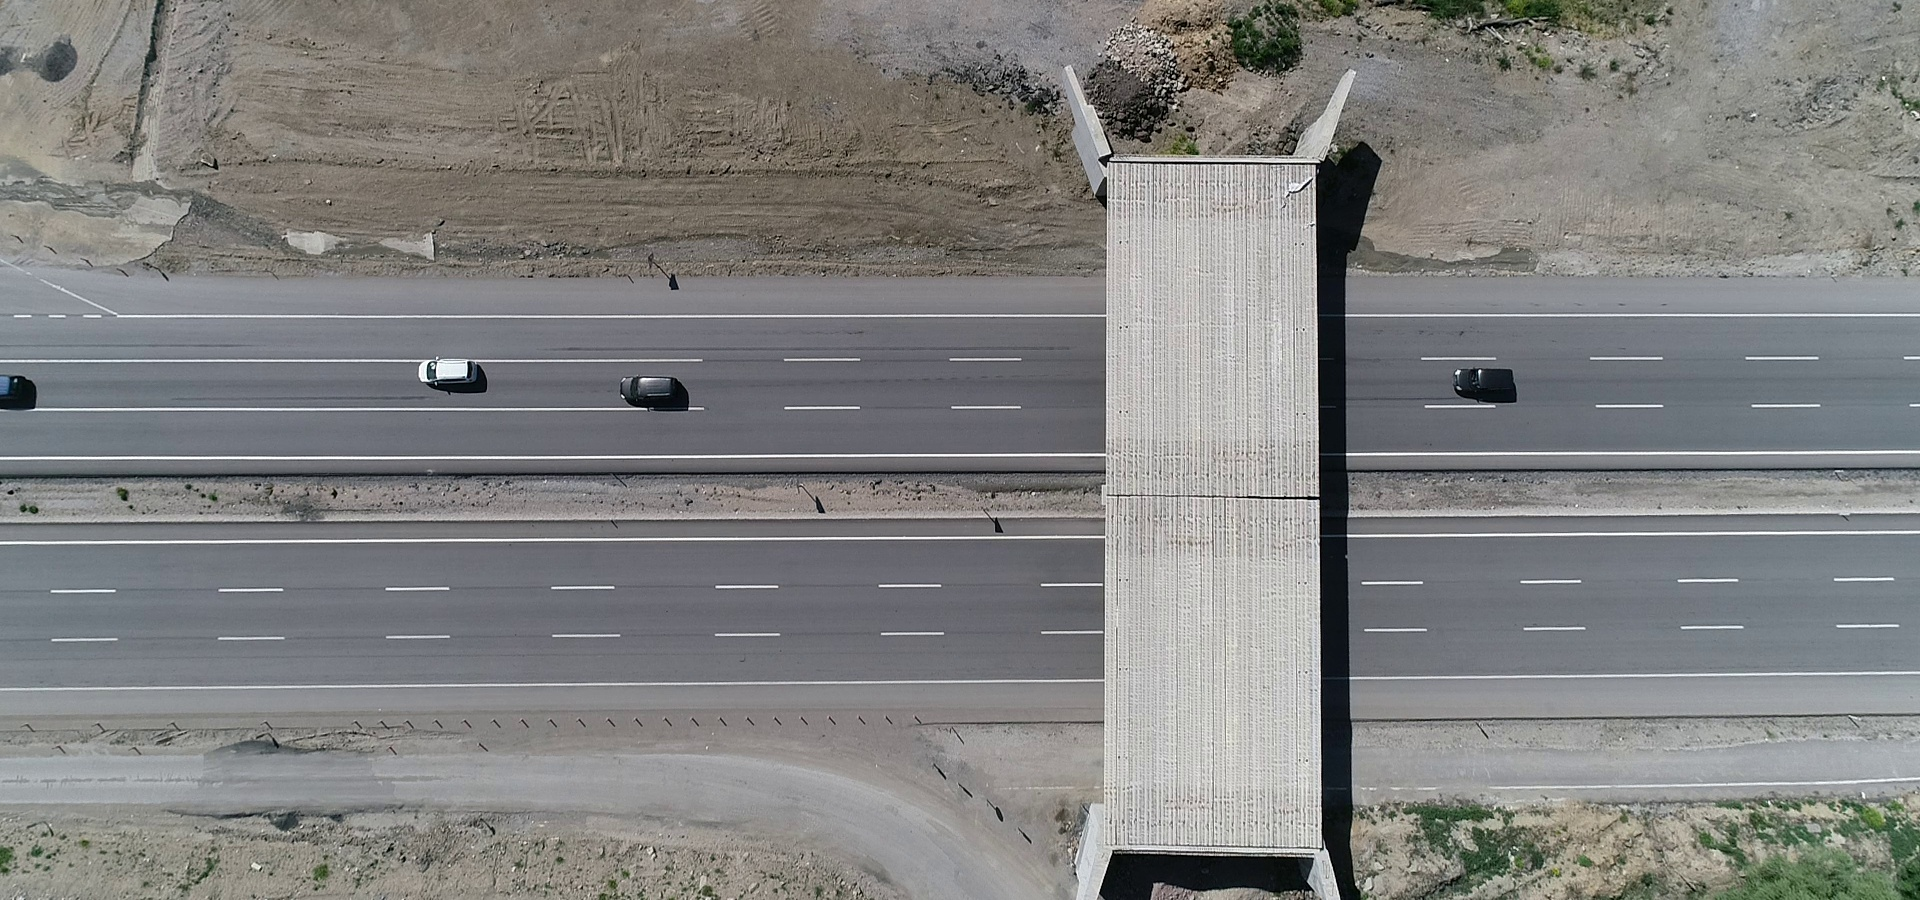araba: (411, 347, 492, 396), (616, 372, 692, 408), (1458, 362, 1517, 404)
